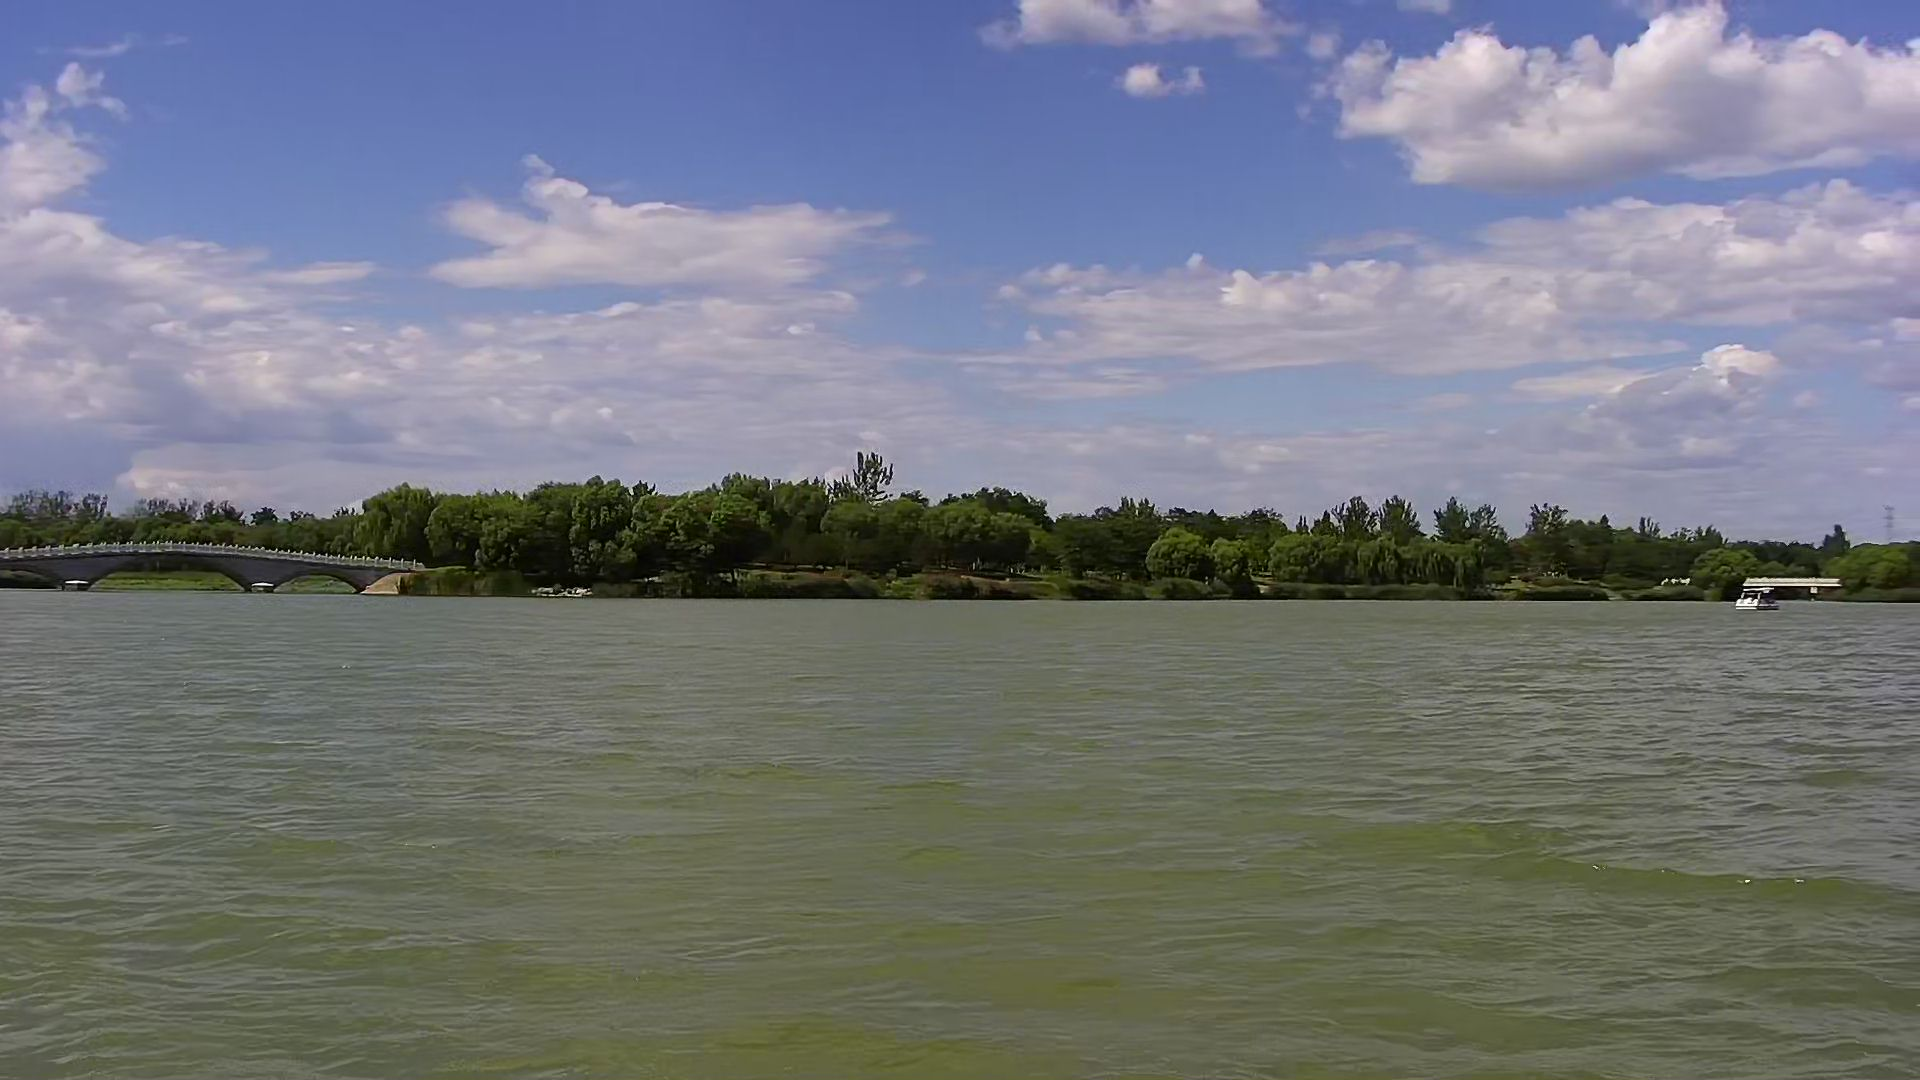boat: (1729, 578, 1792, 617)
bridge: (1, 531, 446, 603)
